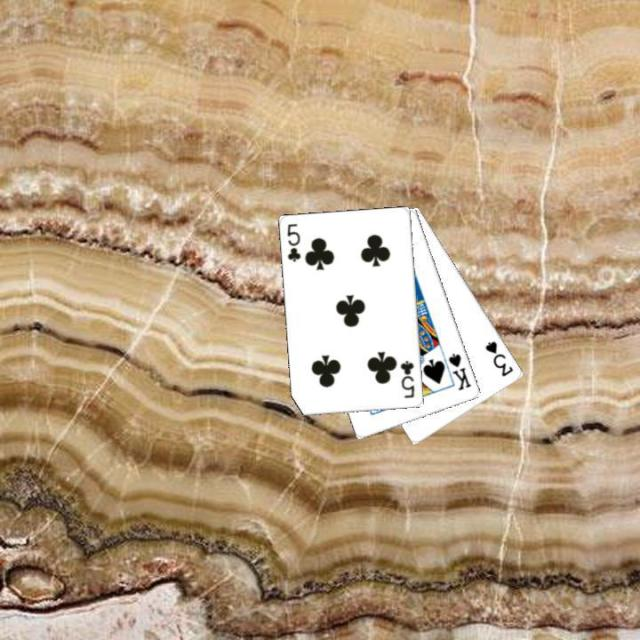3S: (482, 337, 516, 379)
5C: (396, 357, 417, 400), (284, 220, 302, 264)
KS: (444, 349, 474, 392)
